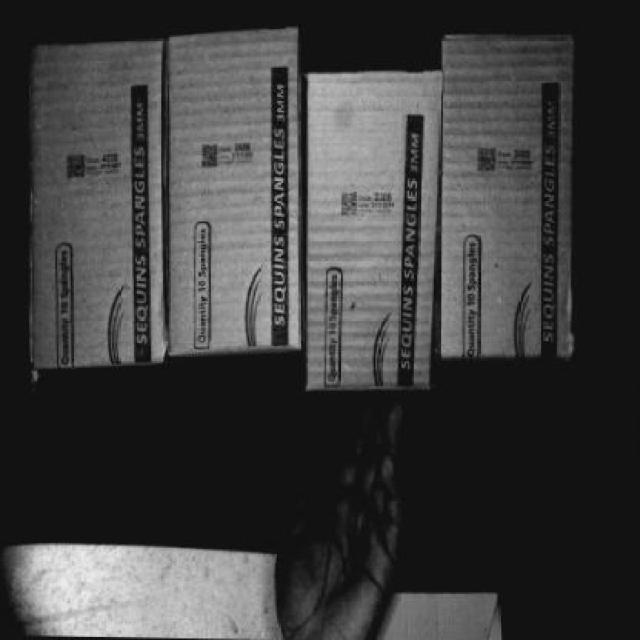box: (28, 38, 172, 367), (303, 70, 439, 396), (437, 34, 575, 354), (164, 35, 304, 348)
